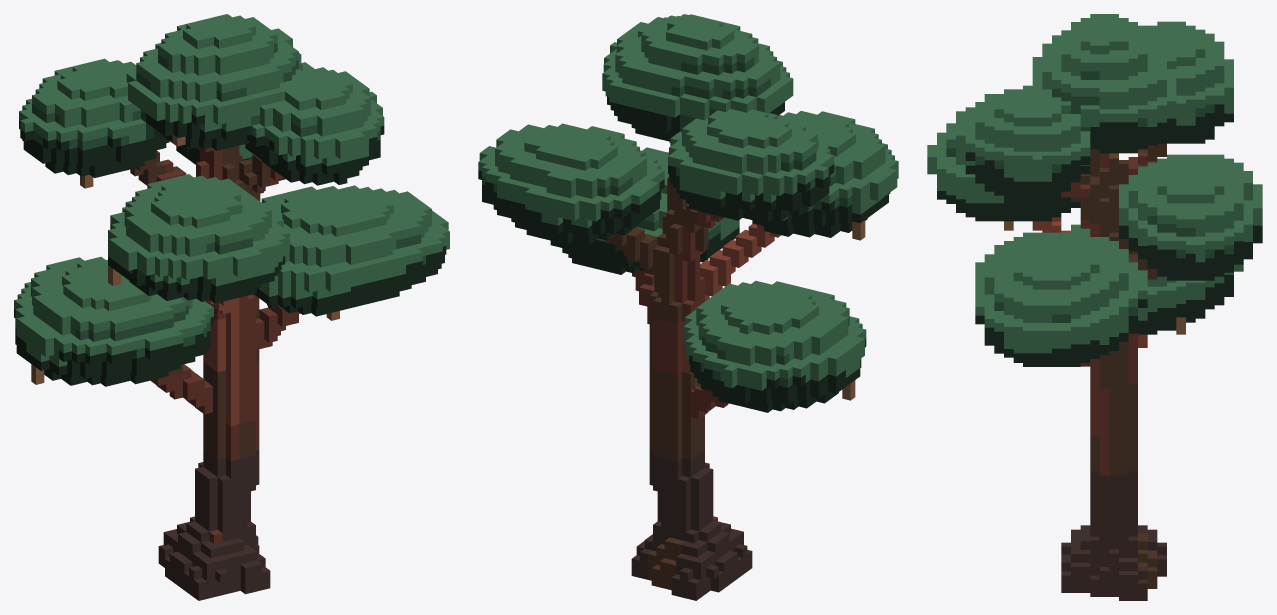
File: Mountain_Pine_v4.fbx
The picture shows the model from 3 angles, left to right: view 1: azimuth 30°, elevation 25°; view 2: azimuth 150°, elevation 25°; view 3: azimuth 270°, elevation 25°; orthographic projection.
Parts seen in each view (by area): view 1: Mountain_Pine_v4; view 2: Mountain_Pine_v4; view 3: Mountain_Pine_v4.
Boxes of the visible parts, left/top/right/bottom form: Mountain_Pine_v4: left=14, top=14, right=449, bottom=600; Mountain_Pine_v4: left=478, top=14, right=898, bottom=600; Mountain_Pine_v4: left=927, top=14, right=1262, bottom=600.
Size of the model in its own units: 2.87 by 4.2 by 2.33.
Materials: 1 (1 with a texture image).
